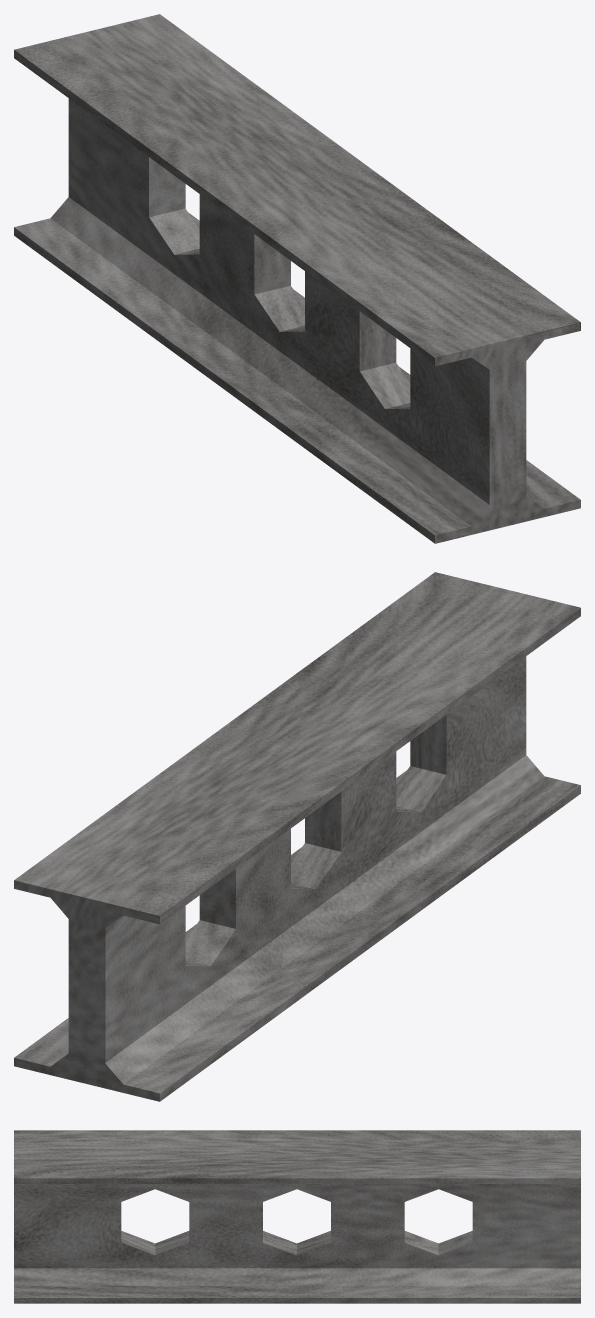
The model's file is Structural.fbx_StructureType2.fbx.
The picture shows the model from 3 angles, top to bottom: view 1: azimuth 30°, elevation 25°; view 2: azimuth 150°, elevation 25°; view 3: azimuth 270°, elevation 25°; orthographic projection. The views are drawn at different scales.
Parts seen in each view (by area): view 1: StructureType2; view 2: StructureType2; view 3: StructureType2.
Boxes of the visible parts, bbox=[...] form: StructureType2: bbox=[14, 14, 580, 543]; StructureType2: bbox=[14, 572, 580, 1101]; StructureType2: bbox=[14, 1130, 580, 1303].
Size of the model in its own units: 160 by 195 by 800.
